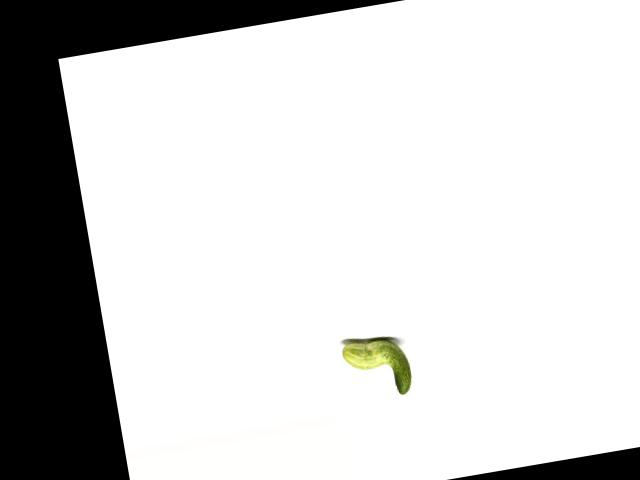cucumber: (341, 332, 415, 402)
